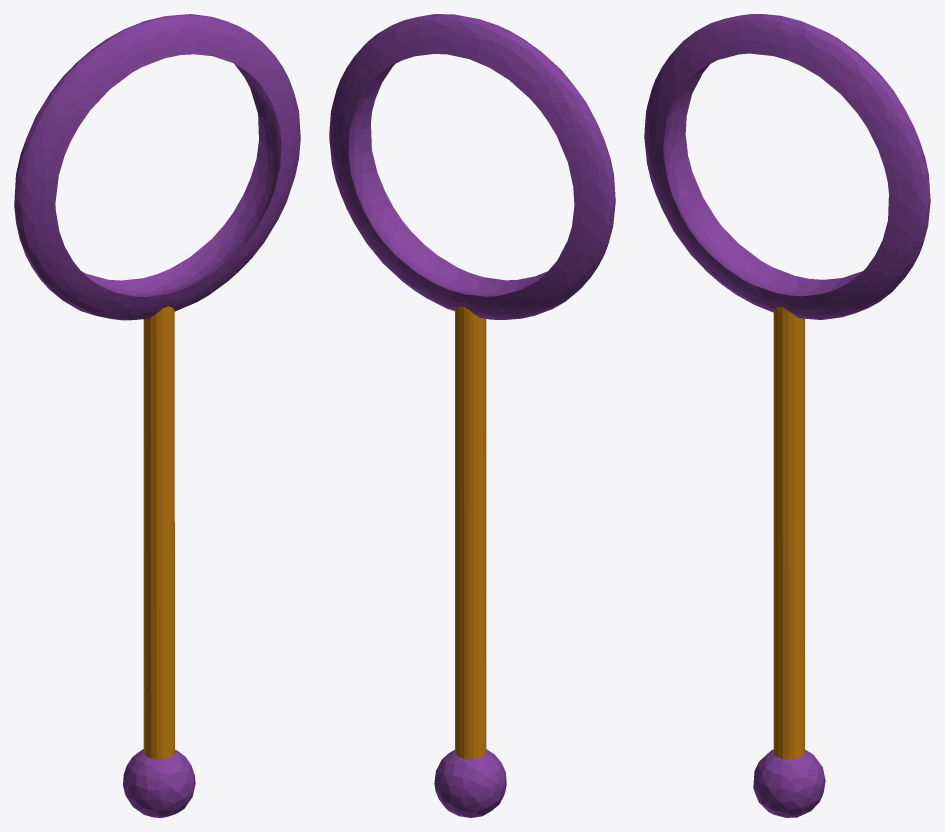
Rendered from Net.fbx.
The picture shows the model from 3 angles, left to right: view 1: azimuth 30°, elevation 25°; view 2: azimuth 150°, elevation 25°; view 3: azimuth 330°, elevation 25°; orthographic projection.
Visible parts, largest first — view 1: yStick; view 2: yStick; view 3: yStick.
Boxes of the visible parts, x1=… form: yStick: x1=14, y1=14, x2=300, y2=817; yStick: x1=329, y1=14, x2=615, y2=817; yStick: x1=644, y1=14, x2=930, y2=817.
Bounding box in the file's own units: 200 × 908 × 2429.
